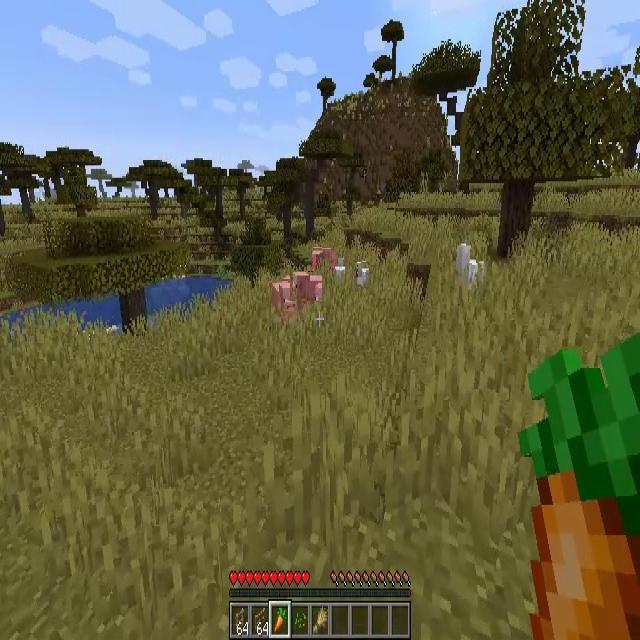duck: (452, 243, 484, 287), (354, 262, 369, 287), (334, 257, 346, 279)
pig: (272, 278, 297, 319), (290, 271, 322, 301), (312, 248, 332, 270)
